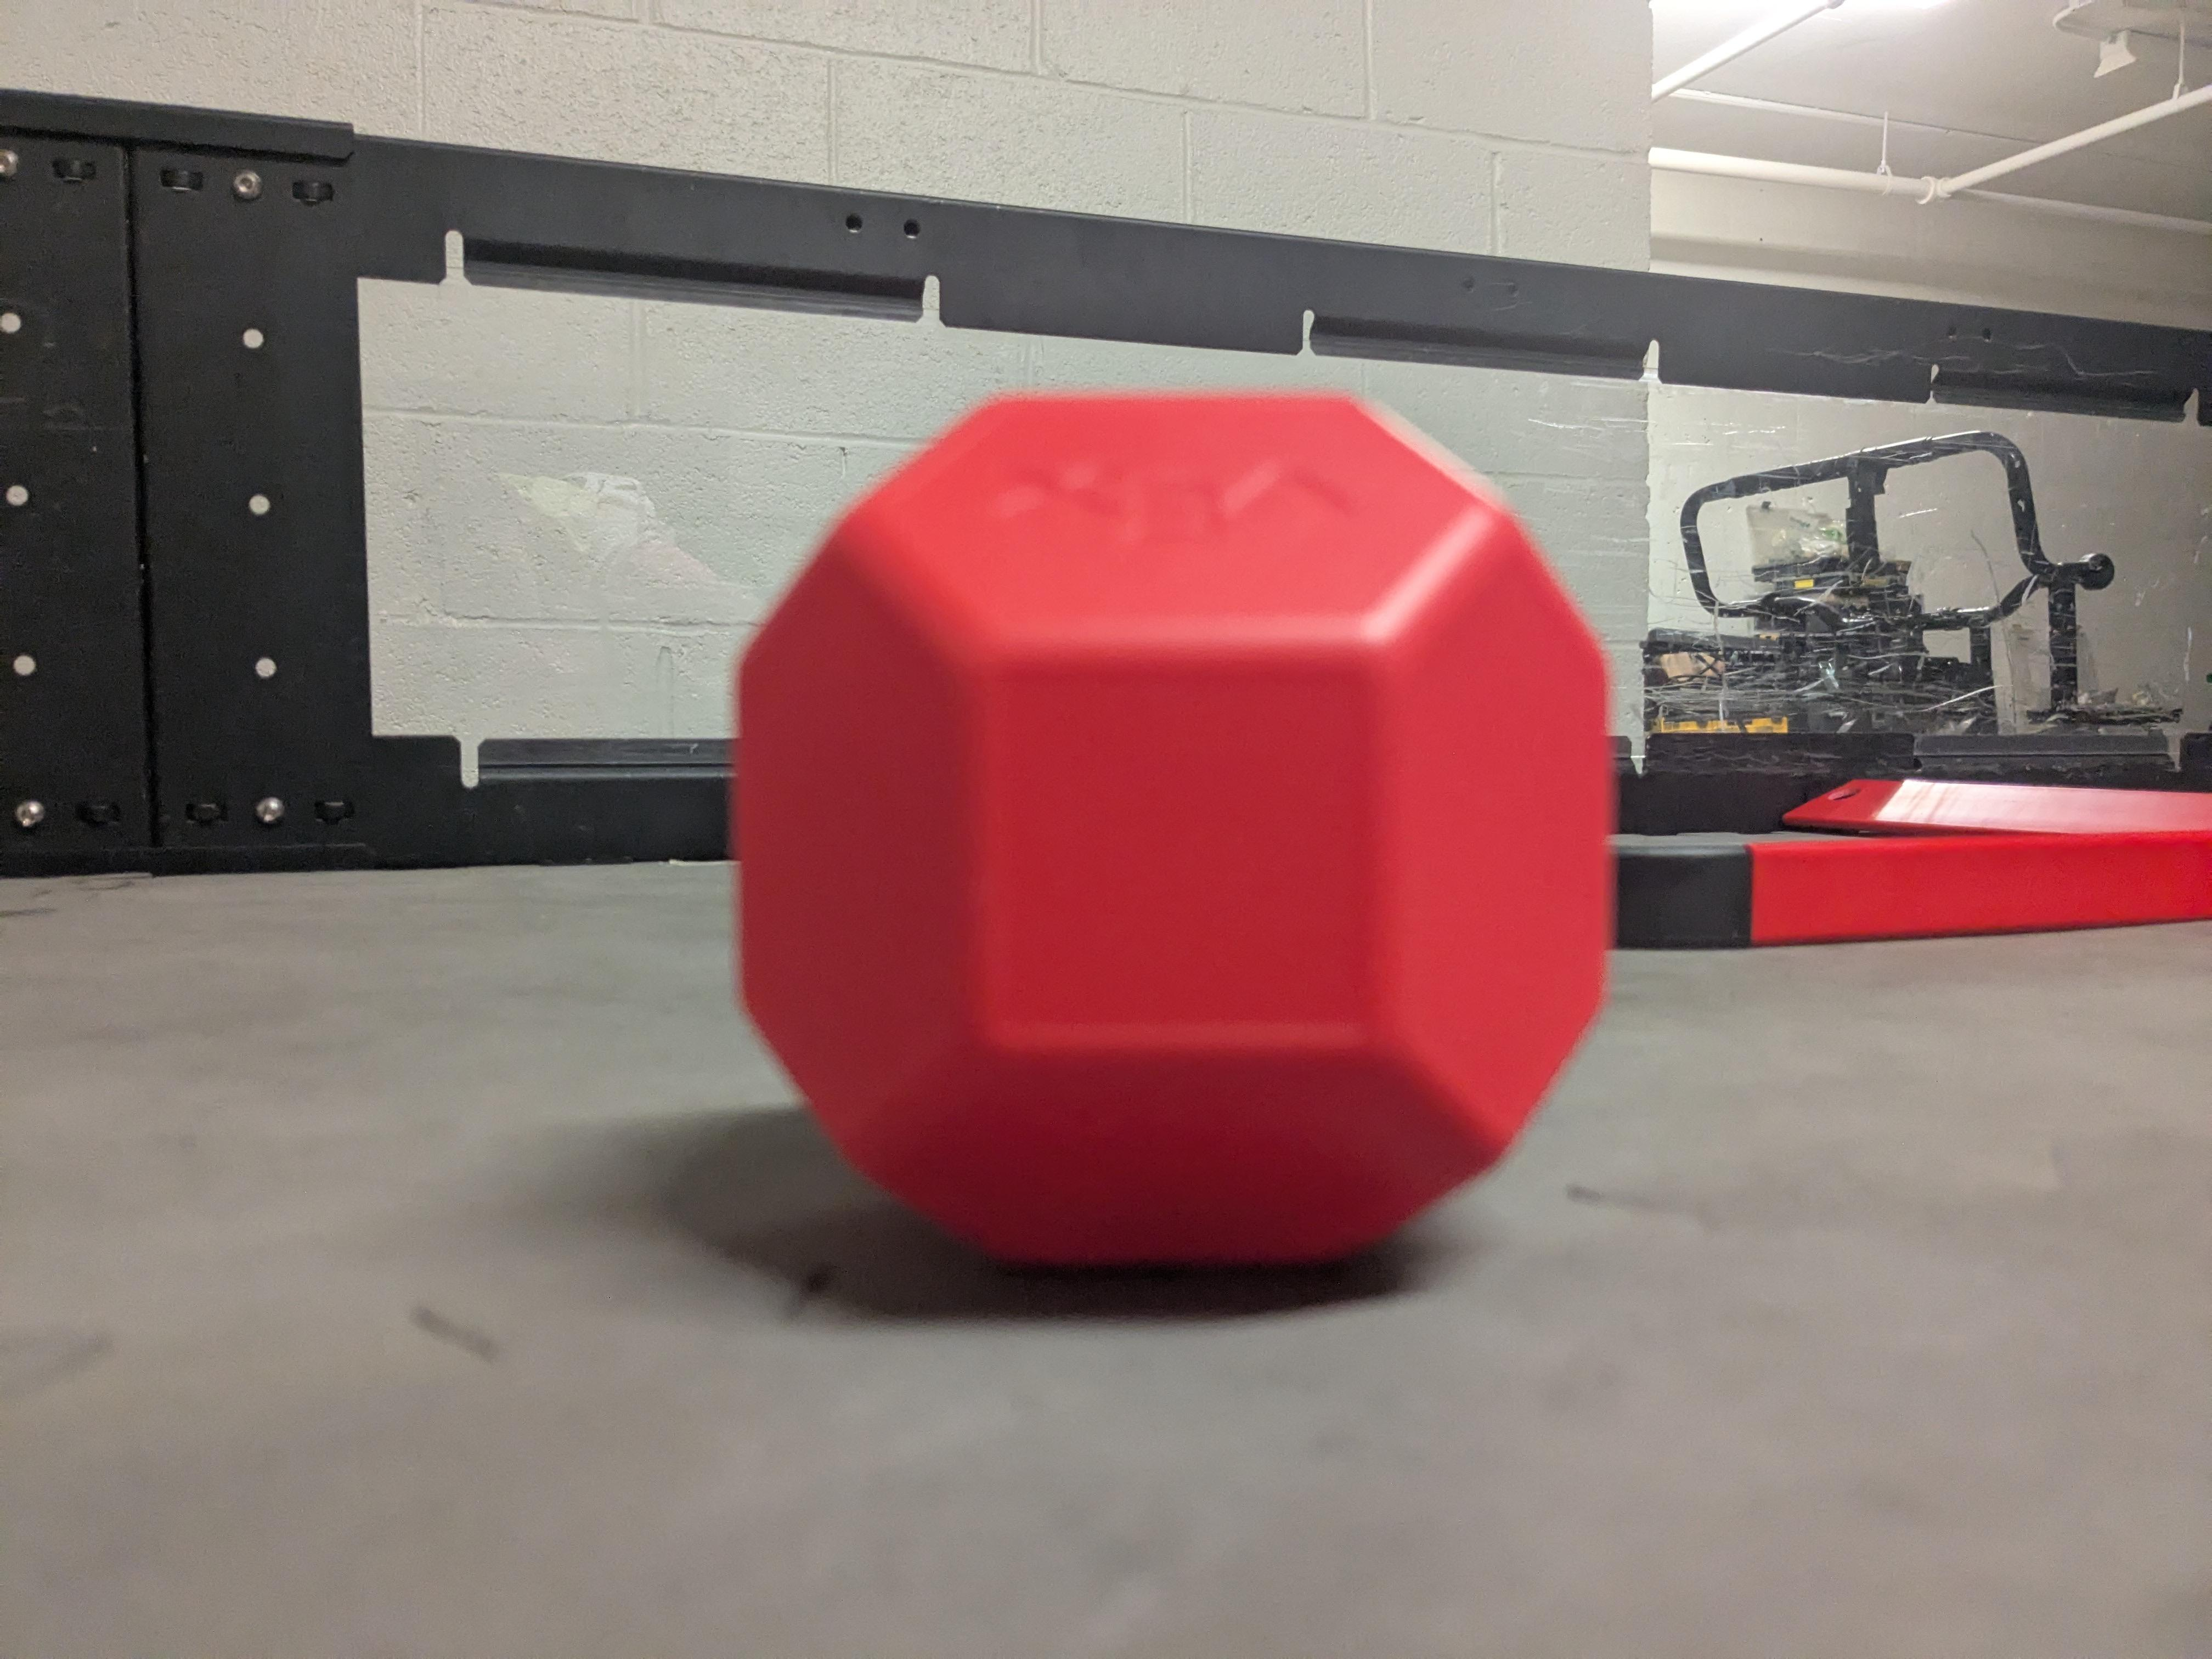Vex-Pieces-RED: (735, 394, 1613, 1263)
